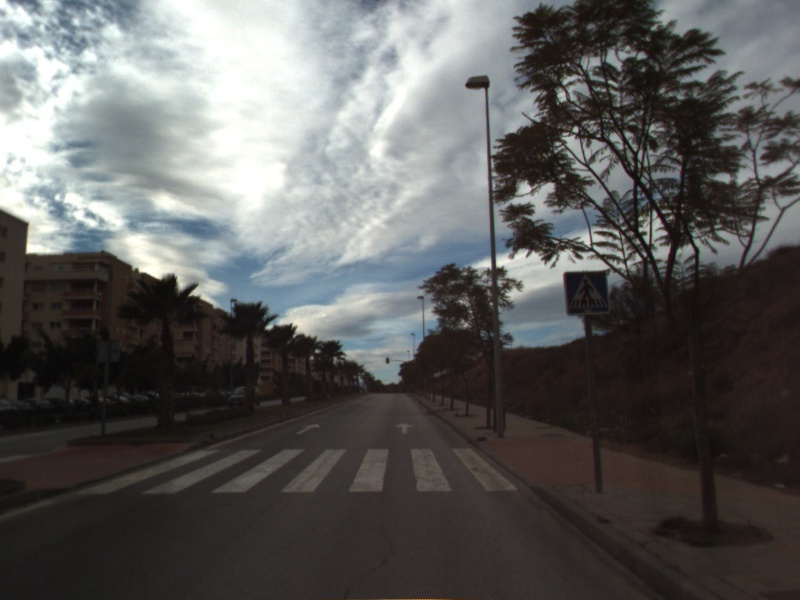STRAIGHT: (294, 421, 323, 436), (393, 420, 417, 435)
